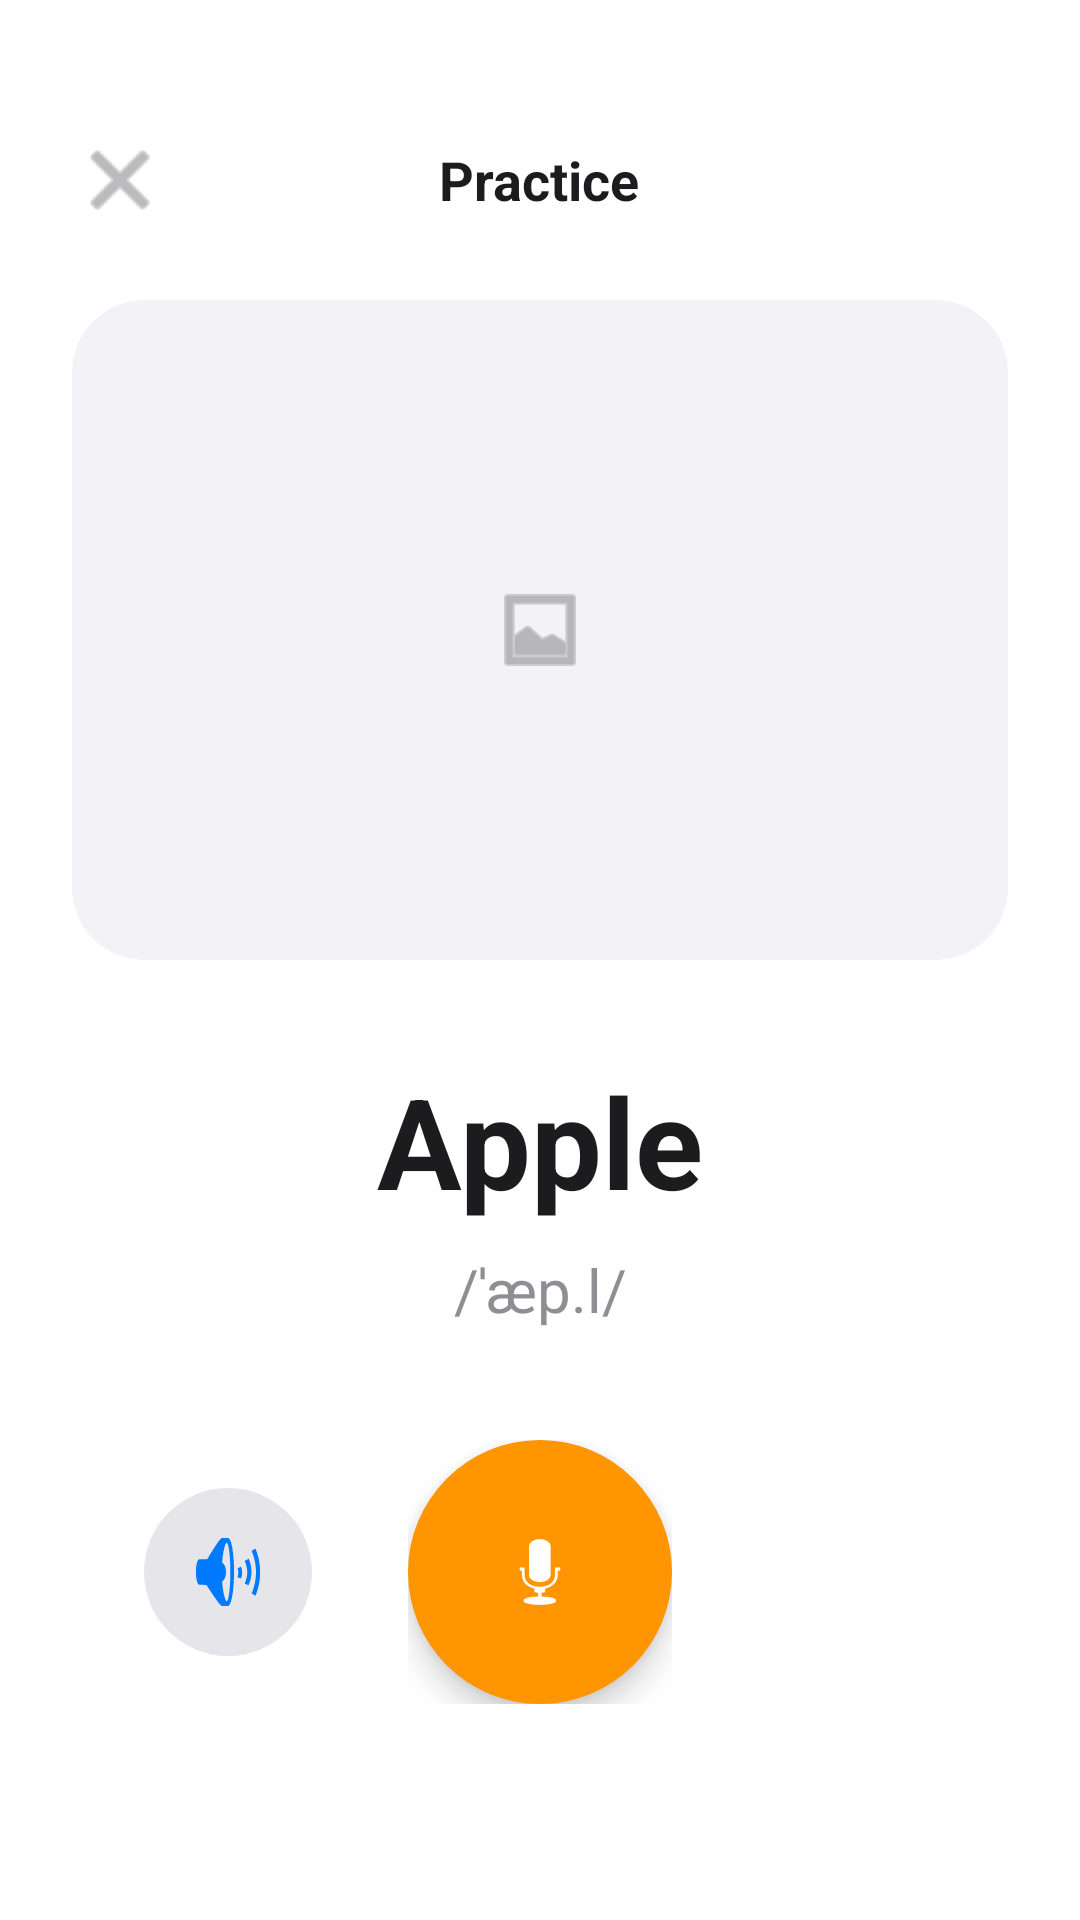

Locate icon controls on the screen. Image size 1080px×1920px, boxes as box=[x1, y1, x2, y2].
close clear cancel: box=[91, 151, 149, 209]
speak now: box=[408, 1440, 672, 1704]
